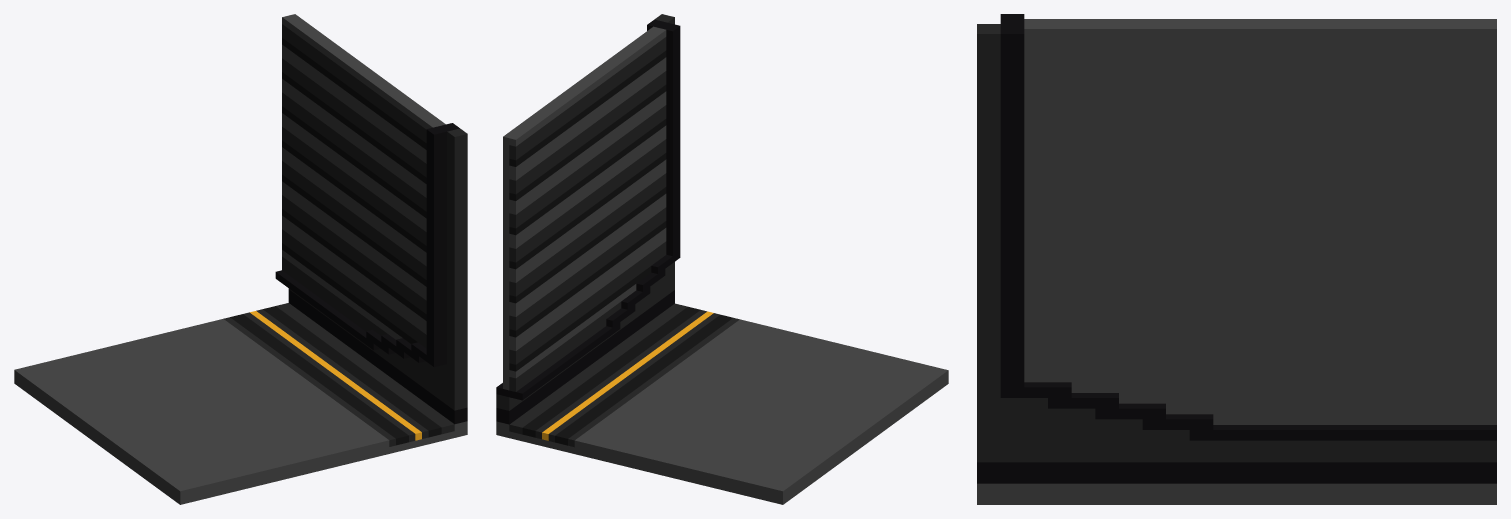
File: mesh_hanger_ship_door_bottom_right.obj
3 renders of one model, left to right at view 1: azimuth 30°, elevation 25°; view 2: azimuth 150°, elevation 25°; view 3: azimuth 270°, elevation 25°, orthographic. The views are drawn at different scales.
Size of the model in its own units: 4.4 by 4.4 by 4.4.
Materials: 1 (1 with a texture image).
